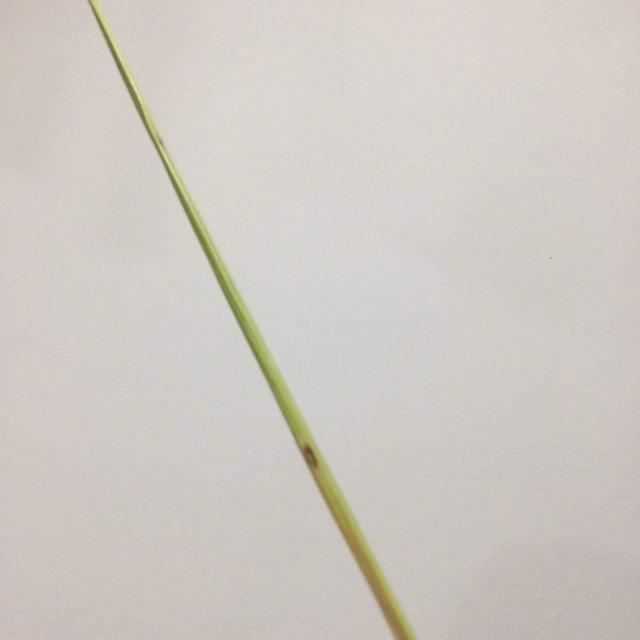Blast: (304, 442, 322, 469)
